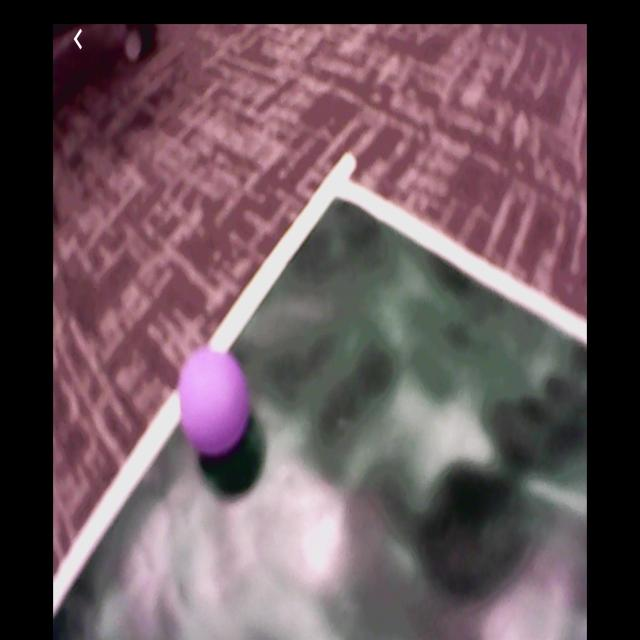ball: (178, 349, 250, 458)
